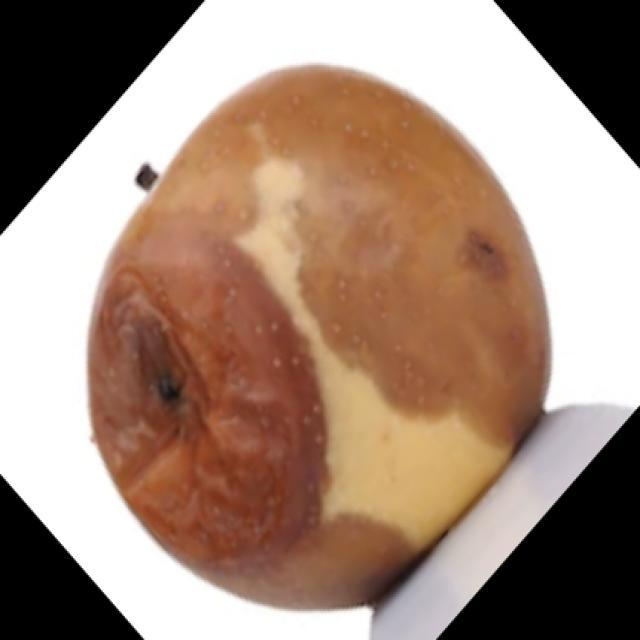Rotten: (102, 52, 550, 610)
